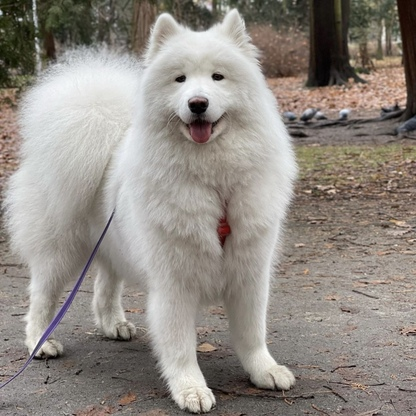samoyed: (1, 6, 308, 415)
